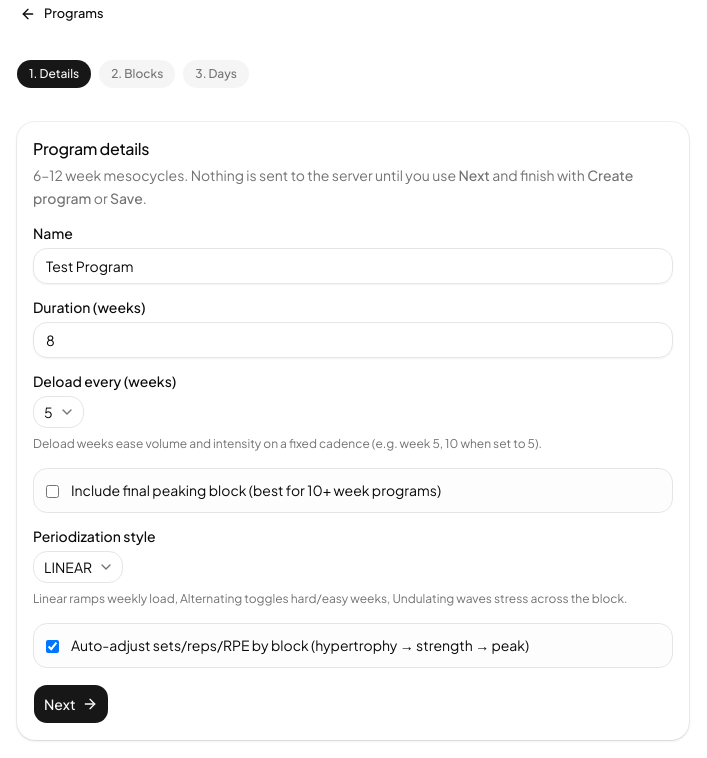
Test: ProgramBuilderForm › keeps structural editing flow available in edit mode
Step 1. Click the button "Next" → [71, 704], box [33,684,108,724]
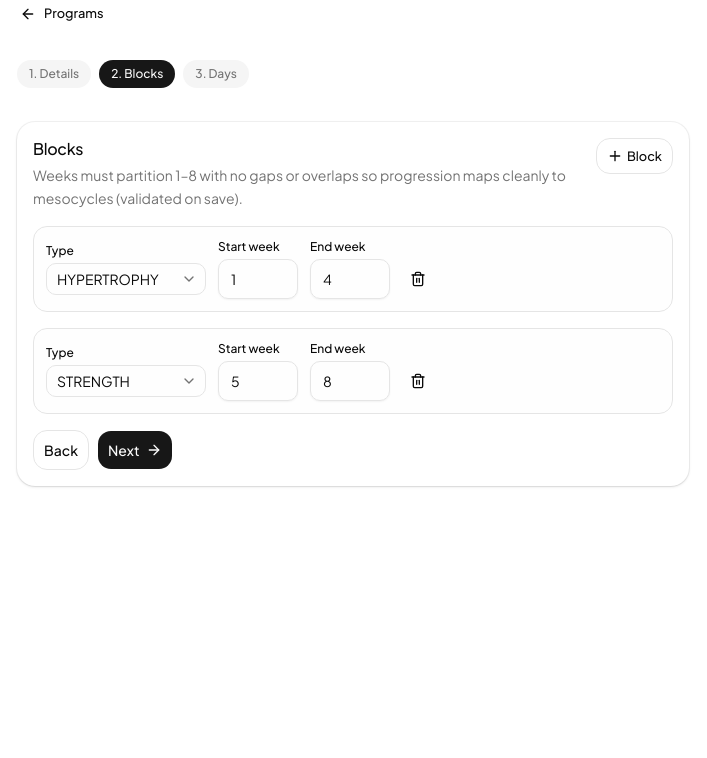
Check: the text "Blocks" is shown, box [33,138,83,159]
